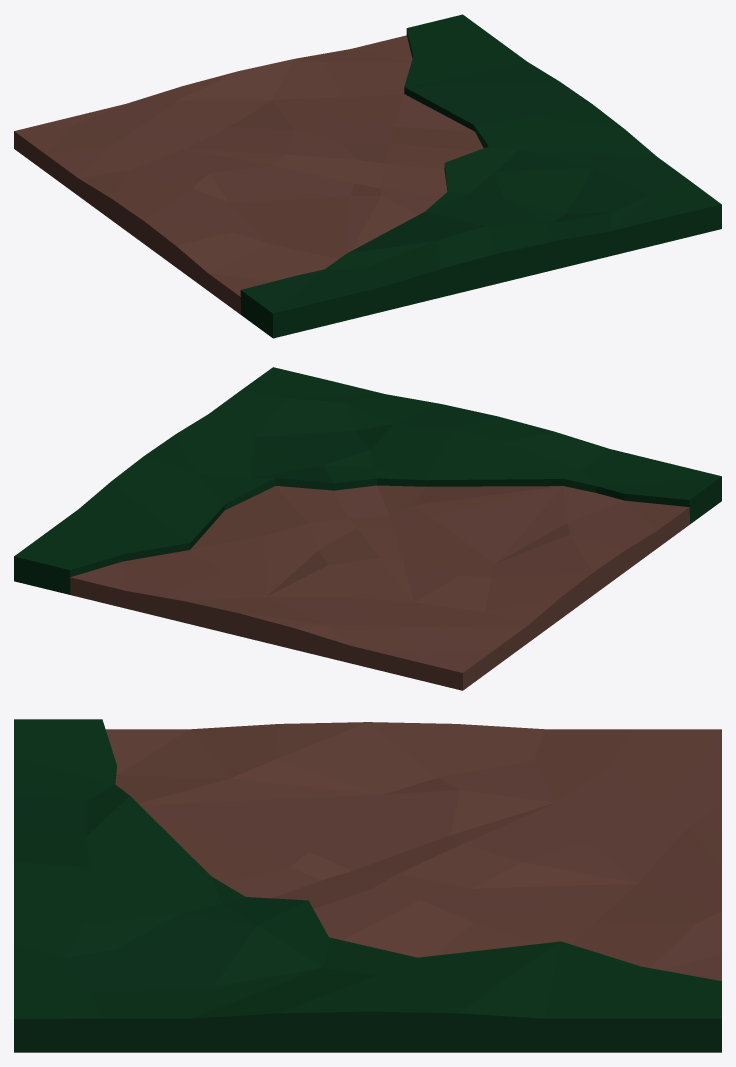
File: Mud_green1.FBX
3 renders of one model, top to bottom at view 1: azimuth 30°, elevation 25°; view 2: azimuth 150°, elevation 25°; view 3: azimuth 270°, elevation 25°, orthographic. The views are drawn at different scales.
Parts seen in each view (by area): view 1: Mud_green1; view 2: Mud_green1; view 3: Mud_green1.
Part boxes in pixels (x1,y1,x2,y2): Mud_green1: [14, 14, 721, 338]; Mud_green1: [14, 367, 721, 690]; Mud_green1: [14, 719, 721, 1052].
Size of the model in its own units: 1.5 by 0.1065 by 1.5.
Materials: 1 (1 with a texture image).
